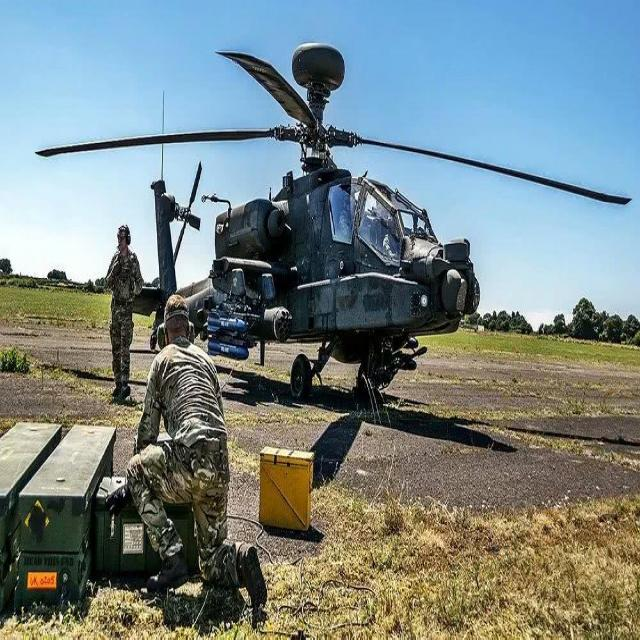MIL_HELO: (30, 36, 633, 397)
